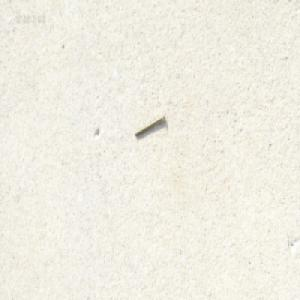Bolt: (134, 112, 165, 137)
